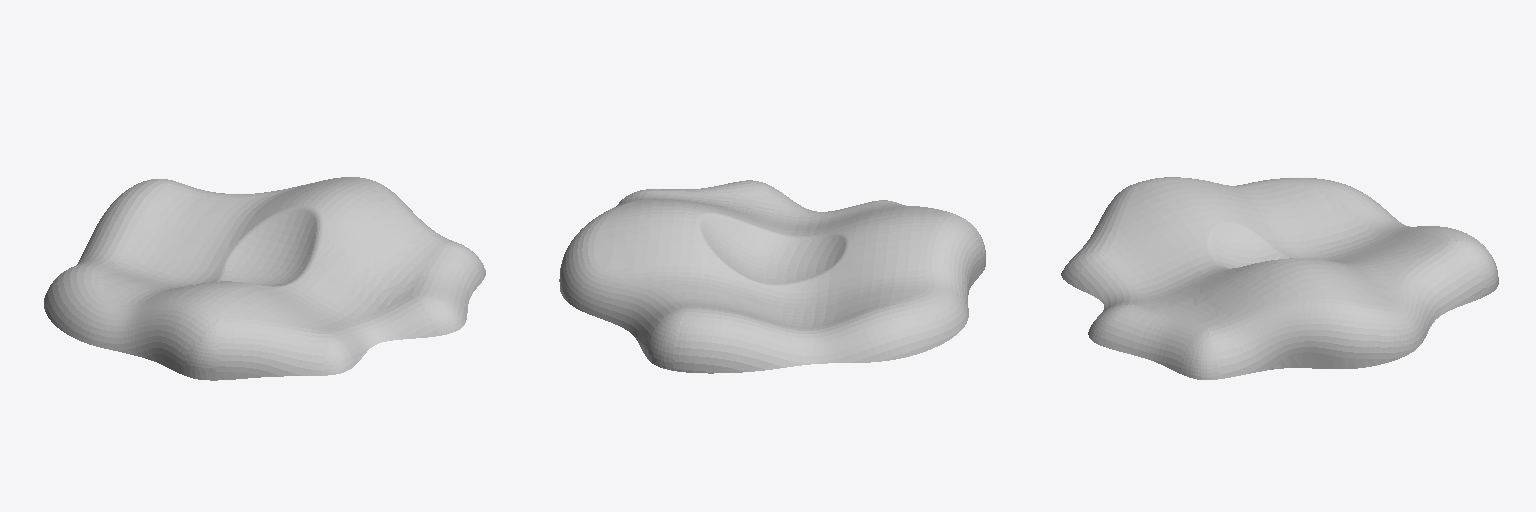
Rendered from gud_white.obj.
3 renders of one model, left to right at view 1: azimuth 30°, elevation 25°; view 2: azimuth 150°, elevation 25°; view 3: azimuth 270°, elevation 25°, orthographic.
Parts seen in each view (by area): view 1: gud_white_Gudetama-White; view 2: gud_white_Gudetama-White; view 3: gud_white_Gudetama-White.
Boxes of the visible parts, <box> form: gud_white_Gudetama-White: <box>44,177,485,380</box>; gud_white_Gudetama-White: <box>559,180,985,373</box>; gud_white_Gudetama-White: <box>1061,177,1498,379</box>.
Bounding box in the file's own units: 1.39 × 0.2197 × 1.38.